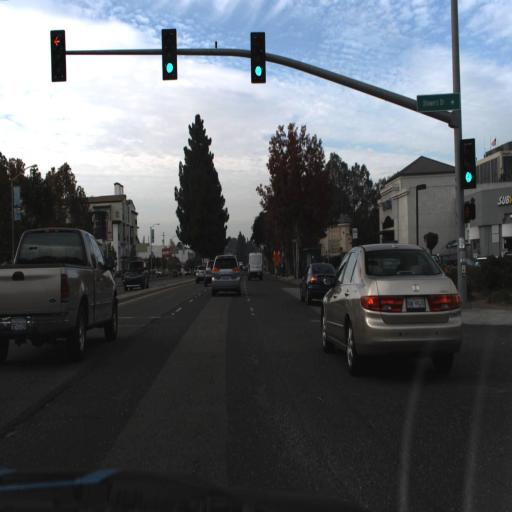car: (317, 239, 466, 382), (0, 217, 121, 369), (295, 257, 340, 310), (204, 248, 246, 302), (119, 255, 151, 296), (245, 247, 269, 286), (247, 249, 266, 277), (202, 255, 216, 290)
trafficLight: (49, 24, 69, 85), (159, 25, 179, 85), (249, 26, 267, 87)
trafficLight-Green: (460, 140, 475, 185)
